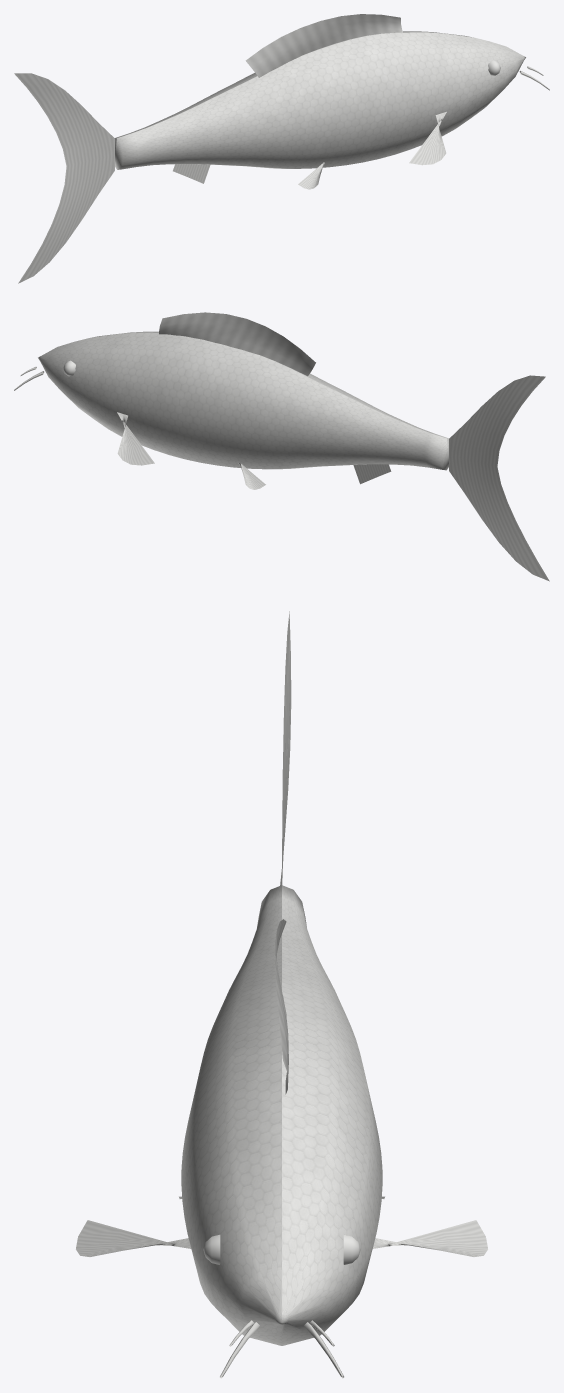
File: koi.glb
3 views of the same model, one above another, from view 1: azimuth 30°, elevation 25°; view 2: azimuth 150°, elevation 25°; view 3: azimuth 270°, elevation 25° (orthographic). The views are drawn at different scales.
Parts seen in each view (by area): view 1: koi; view 2: koi; view 3: koi.
Part boxes in pixels (left/top/right/bottom): koi: left=14, top=14, right=549, bottom=283; koi: left=14, top=312, right=549, bottom=581; koi: left=76, top=611, right=487, bottom=1378.
Size of the model in its own units: 0.512 by 0.196 by 0.1764.
1 material, 1 textured.
